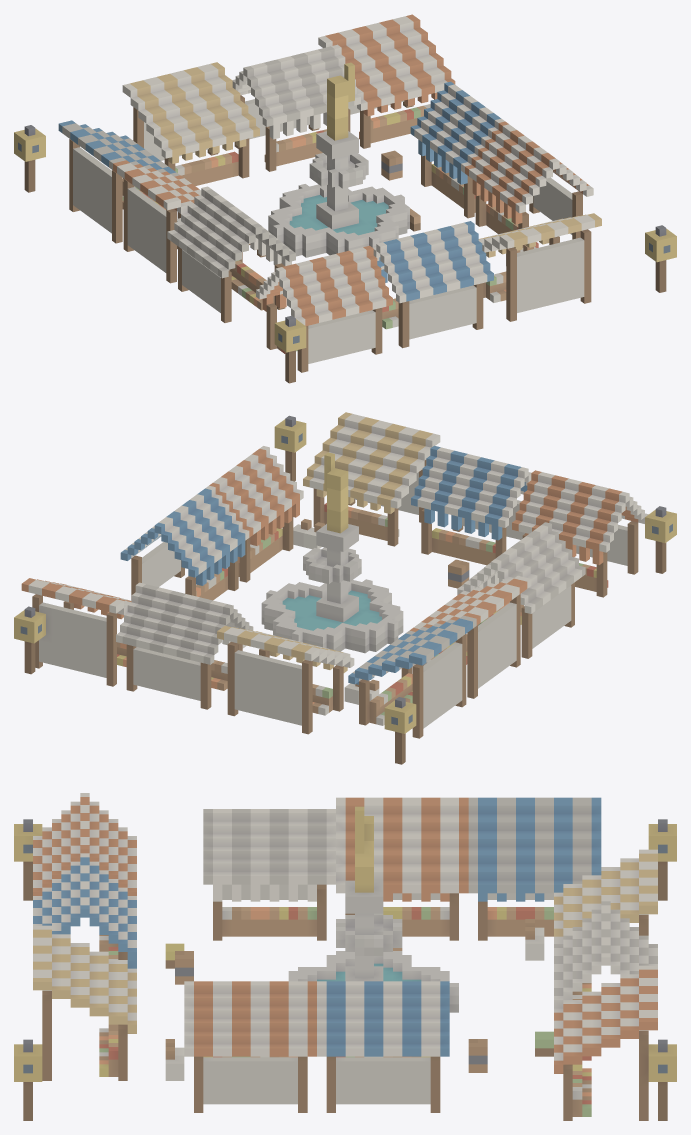
Rendered from market.l4.glb.
The picture shows the model from 3 angles, top to bottom: view 1: azimuth 30°, elevation 25°; view 2: azimuth 150°, elevation 25°; view 3: azimuth 270°, elevation 25°; orthographic projection. The views are drawn at different scales.
Parts seen in each view (by area): view 1: market; view 2: market; view 3: market.
Part boxes in pixels (x1,y1,x2,y2): market: (14, 14, 676, 383); market: (14, 412, 676, 764); market: (14, 793, 676, 1120).
Bounding box in the file's own units: 4.83 × 2 × 5.83.
